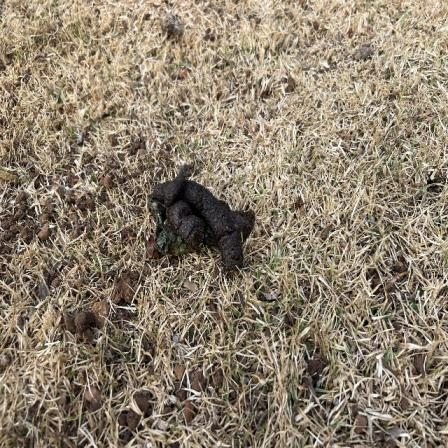dog-poop: (145, 162, 260, 276)
